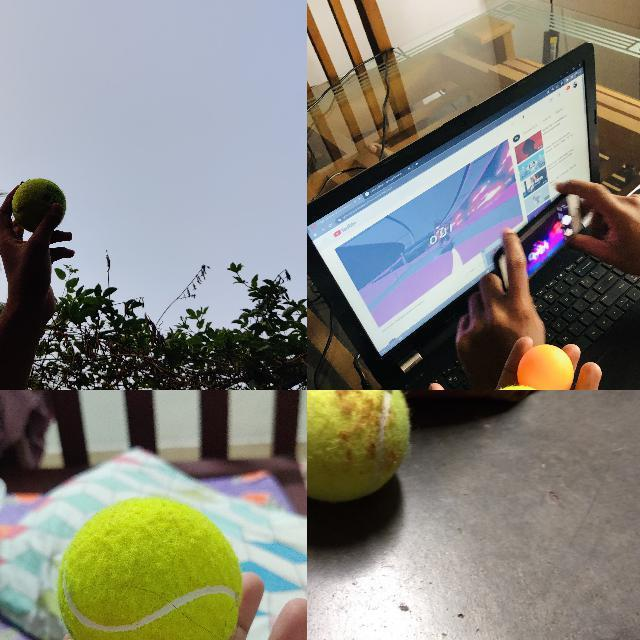tennis-ball: (56, 496, 242, 639), (307, 390, 412, 503), (10, 177, 67, 233)
